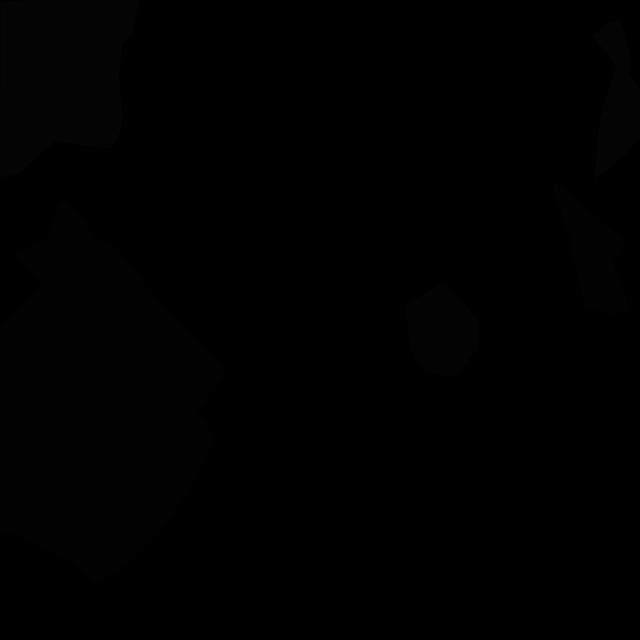cardboard: (0, 200, 227, 585), (550, 179, 631, 314)
metal: (405, 281, 479, 378)
soft_plastic: (0, 0, 140, 177), (593, 20, 640, 180)
